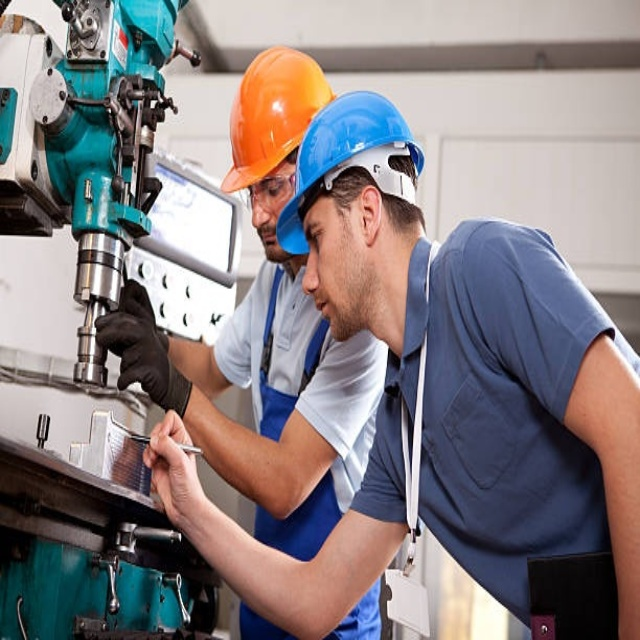Gafas: (246, 166, 295, 210)
Guantes: (97, 282, 194, 414)
Sin_gafas: (302, 209, 350, 251)
Sin_guantes: (144, 418, 205, 535)
Sin_mascara: (302, 281, 346, 342), (253, 216, 279, 259)
